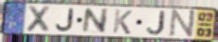J: (54, 8, 76, 33), (146, 10, 167, 36)
K: (112, 9, 135, 36)
N: (167, 9, 198, 40), (81, 8, 111, 34)
X: (25, 5, 53, 34)
